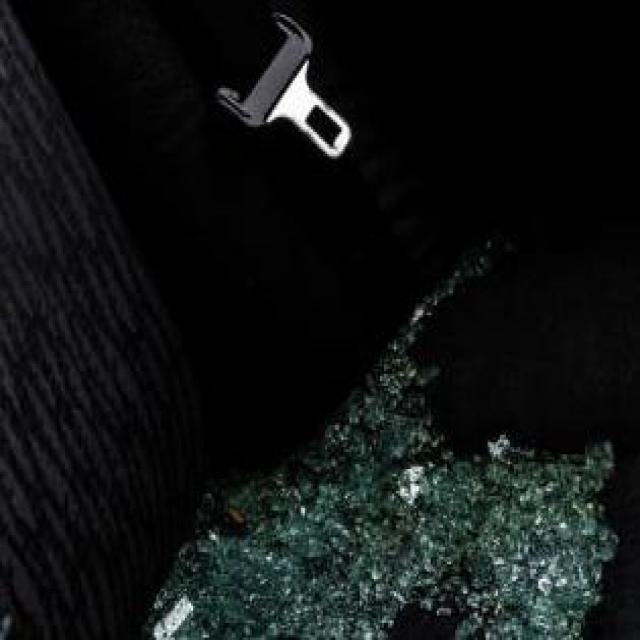electronic: (147, 442, 621, 640)
